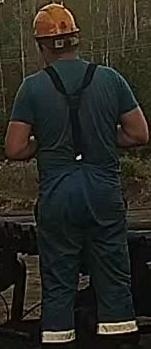helmet: (31, 4, 80, 44)
